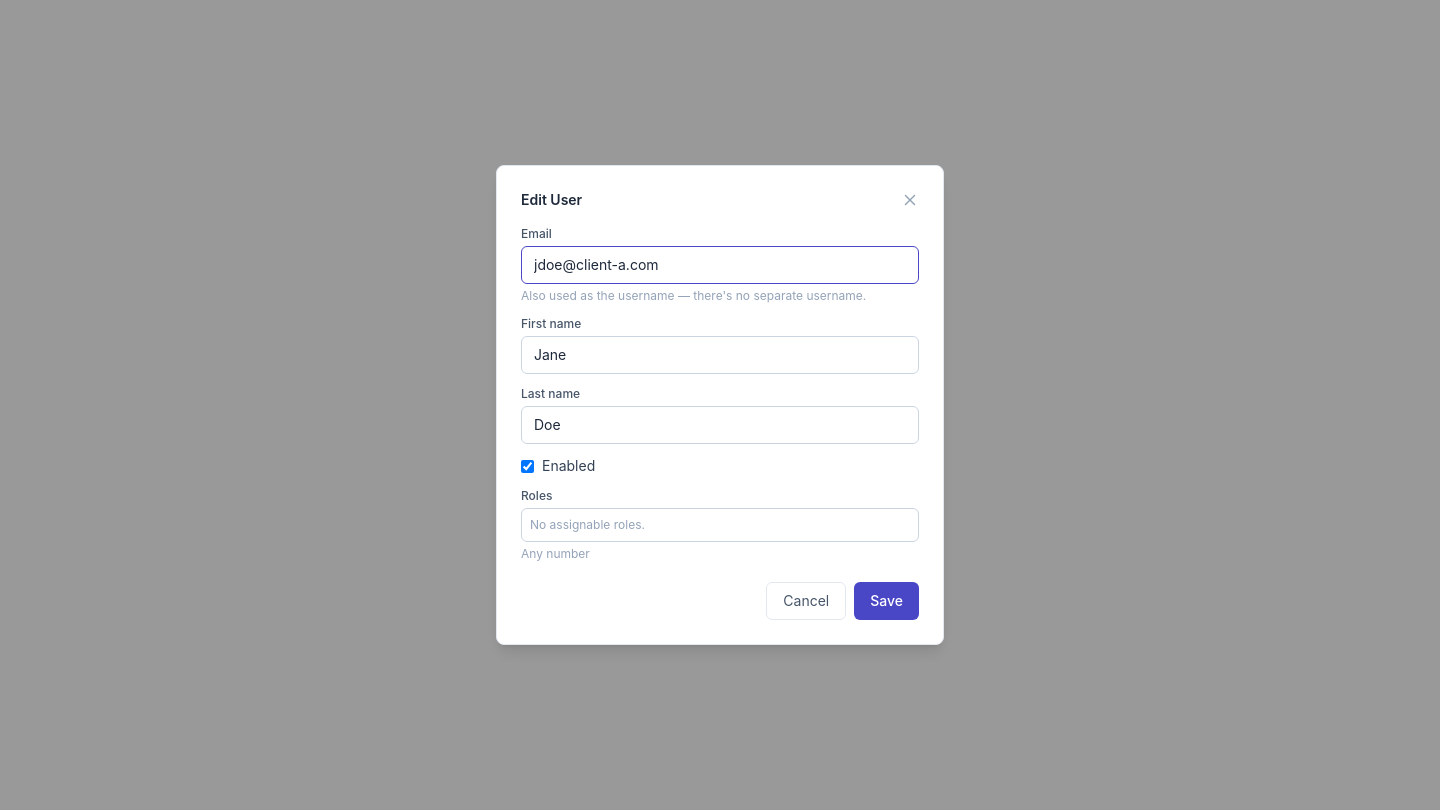
Test: EditUserModal › shows a validation error and does not save when email is cleared
Clear the field showing "jdoe@client-a.com" below "Email": coordinates (720, 265) [521,246,919,284]
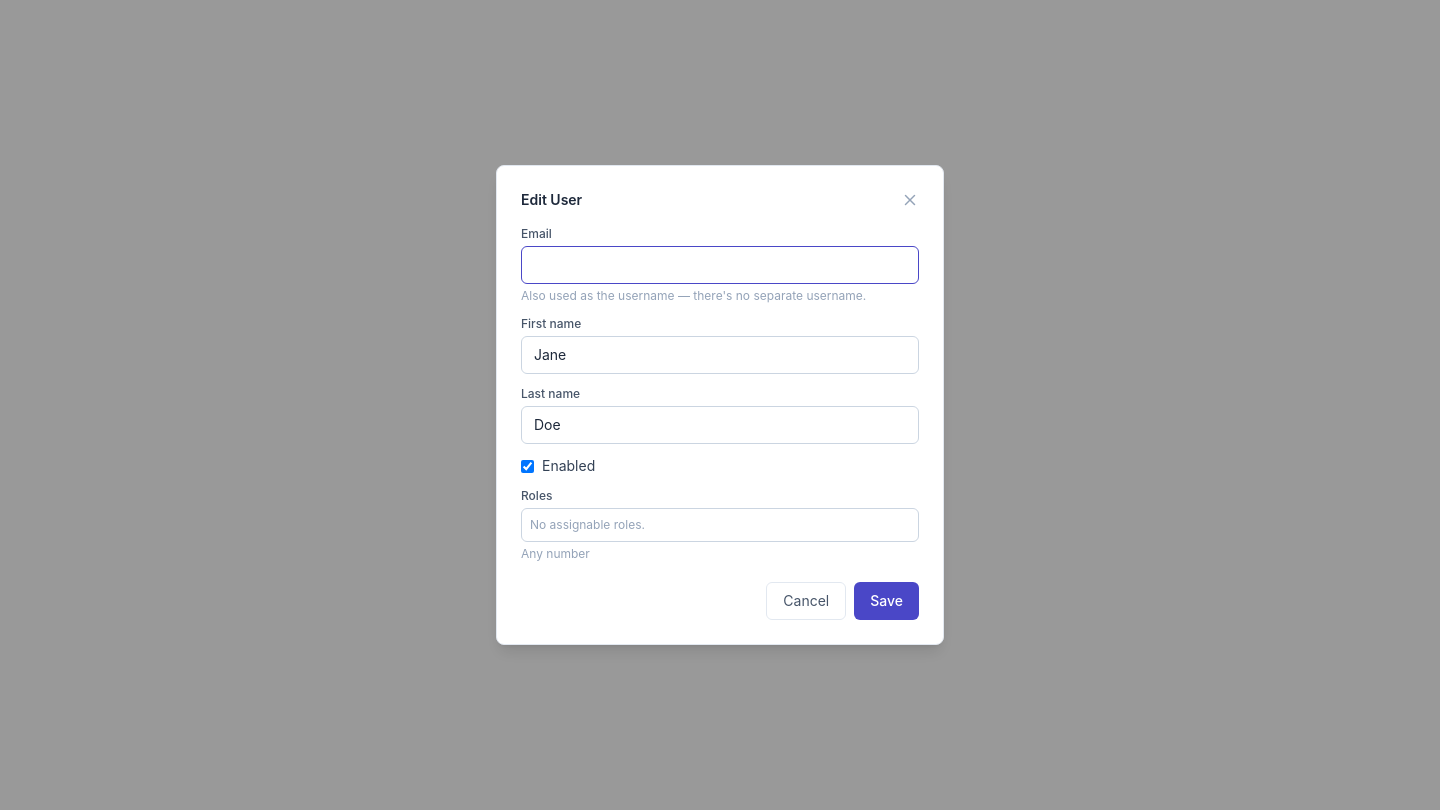
Click the button "Save": coordinates (887, 601) [854,582,919,620]
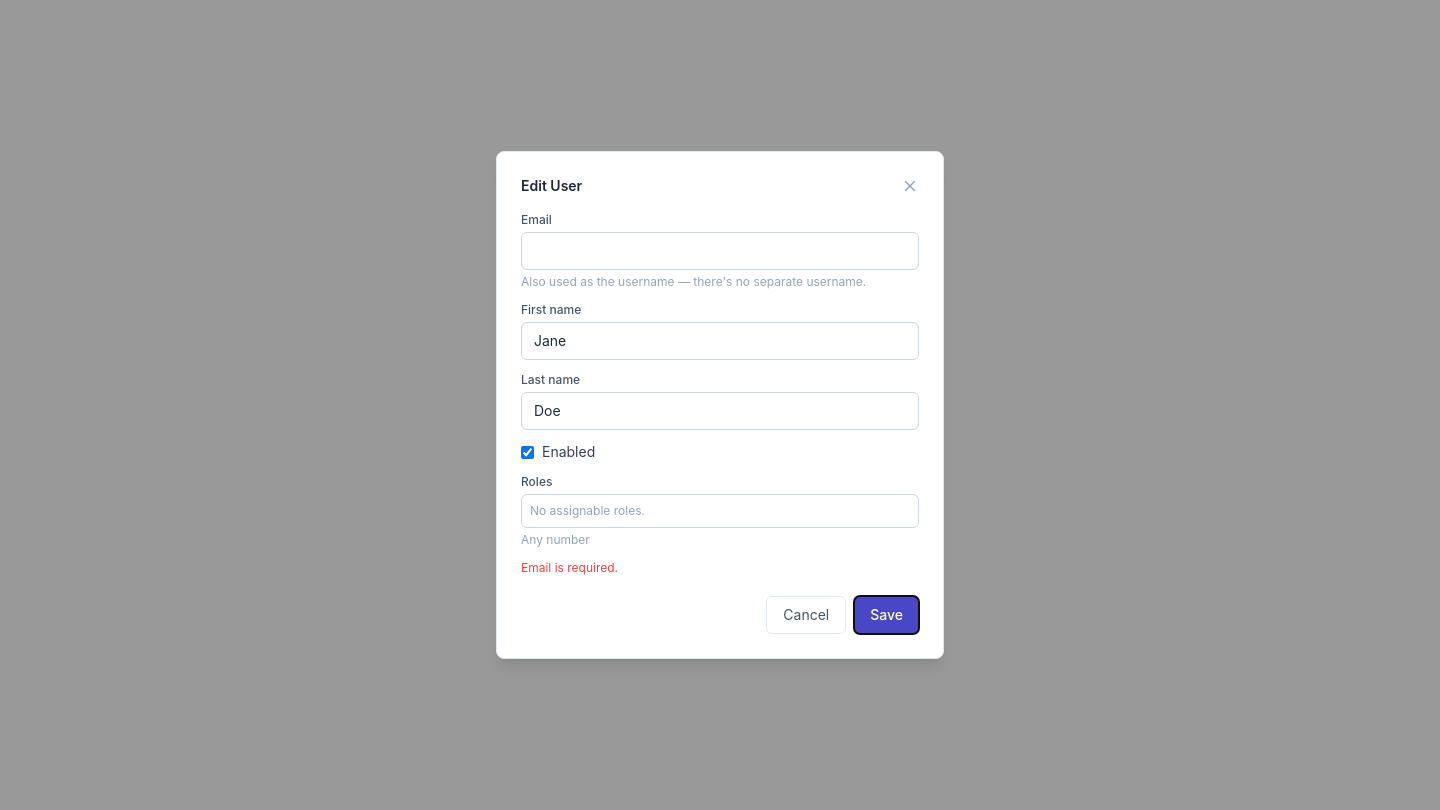
Now the text "Email is required." is shown, box [521,560,618,575]
